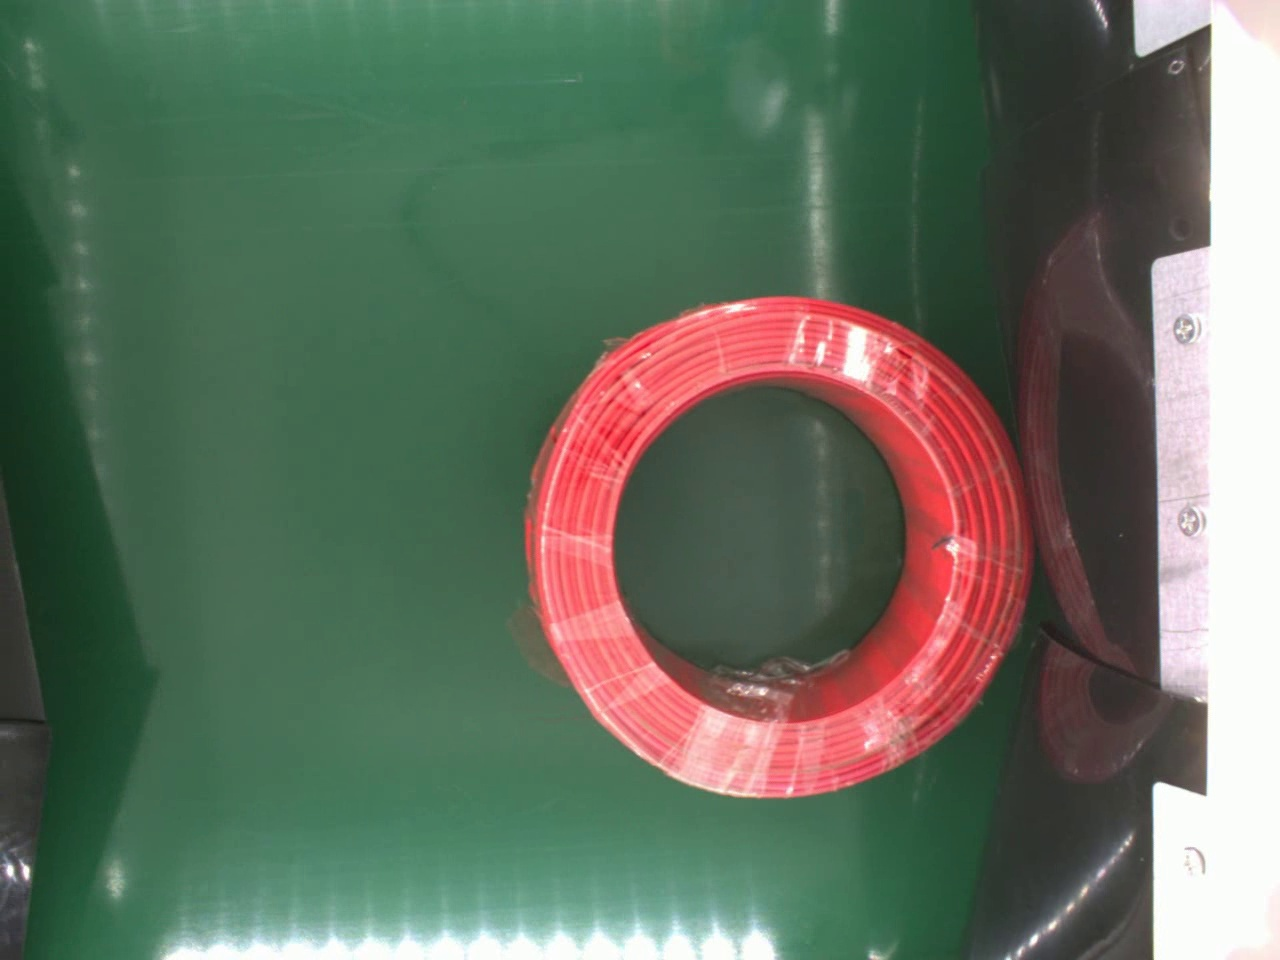red: (521, 296, 1031, 801)
